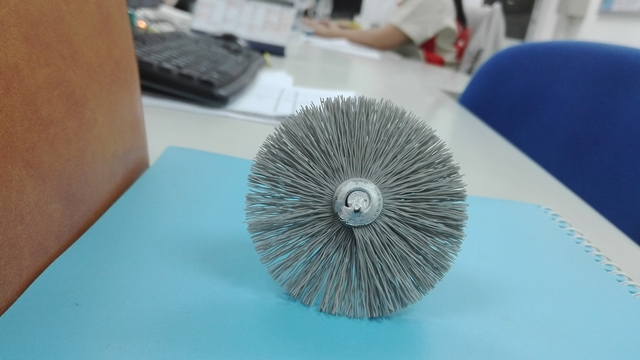TOOL: (190, 93, 500, 324), (256, 43, 461, 353), (282, 96, 525, 348), (233, 50, 400, 325)
